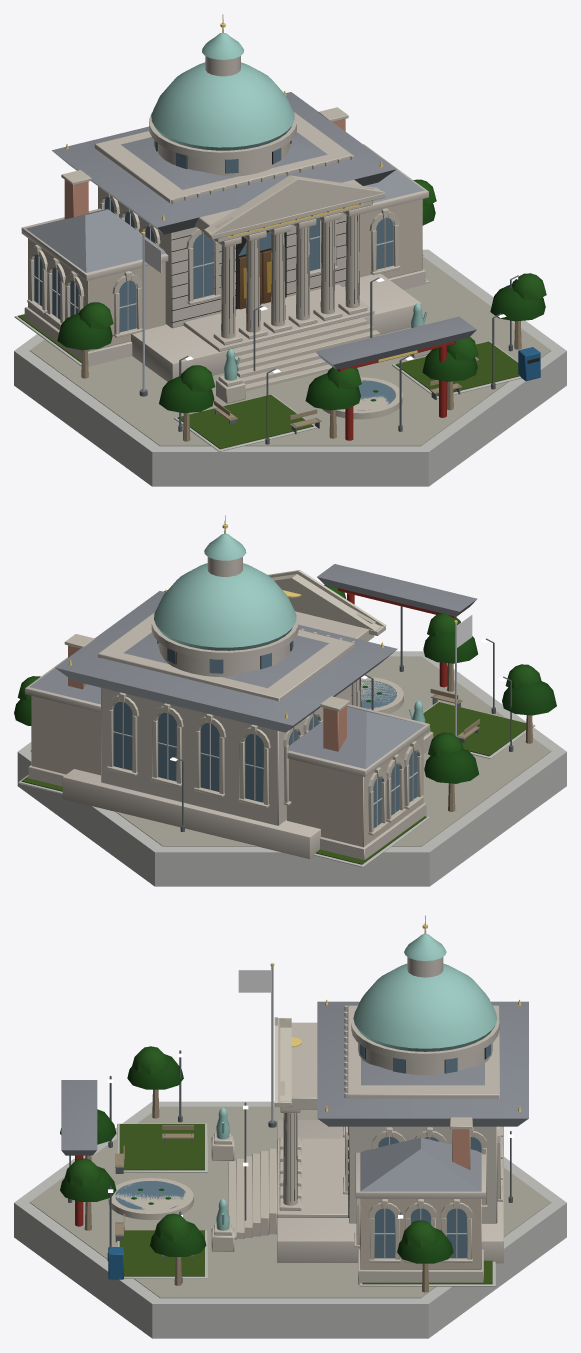
File: library_asia.glb
The picture shows the model from 3 angles, top to bottom: view 1: azimuth 30°, elevation 25°; view 2: azimuth 150°, elevation 25°; view 3: azimuth 270°, elevation 25°; orthographic projection.
Visible parts, largest first — view 1: stone, wall_concrete, roof_slate, pavers, copper, leaf, turf, glass, dark, wood, paint, steel_dark (+2 smaller); view 2: stone, wall_concrete, roof_slate, copper, pavers, glass, leaf, turf, brick, wood, steel_dark, paint; view 3: stone, wall_concrete, roof_slate, pavers, copper, leaf, turf, glass, wood, steel_dark, paint, banner (+2 smaller).
Boxes of the visible parts, left/top/right/bottom form: stone: left=21, top=56, right=431, bottom=419; wall_concrete: left=14, top=198, right=566, bottom=486; roof_slate: left=26, top=92, right=476, bottom=369; pavers: left=29, top=256, right=551, bottom=446; copper: left=151, top=33, right=427, bottom=380; leaf: left=57, top=179, right=546, bottom=413; turf: left=18, top=280, right=519, bottom=449; glass: left=34, top=140, right=395, bottom=410; dark: left=156, top=141, right=539, bottom=363; wood: left=81, top=247, right=521, bottom=441; paint: left=337, top=341, right=540, bottom=440; steel_dark: left=139, top=275, right=518, bottom=444; stone: left=25, top=557, right=433, bottom=859; wall_concrete: left=17, top=651, right=566, bottom=886; roof_slate: left=29, top=564, right=477, bottom=768; copper: left=154, top=533, right=425, bottom=722; pavers: left=115, top=656, right=551, bottom=846; glass: left=113, top=640, right=417, bottom=828; leaf: left=14, top=585, right=556, bottom=783; turf: left=21, top=702, right=526, bottom=864; brick: left=68, top=645, right=346, bottom=751; wood: left=430, top=663, right=532, bottom=811; steel_dark: left=175, top=606, right=513, bottom=831; paint: left=338, top=588, right=455, bottom=687; stone: left=108, top=957, right=503, bottom=1284; wall_concrete: left=14, top=1101, right=566, bottom=1338; roof_slate: left=61, top=1001, right=528, bottom=1191; pavers: left=29, top=1106, right=551, bottom=1298; copper: left=216, top=934, right=497, bottom=1230; leaf: left=60, top=1046, right=453, bottom=1263; turf: left=119, top=1124, right=492, bottom=1284; glass: left=115, top=1044, right=490, bottom=1258; wood: left=84, top=1089, right=428, bottom=1292; steel_dark: left=68, top=1050, right=512, bottom=1282; paint: left=75, top=1155, right=123, bottom=1279; banner: left=238, top=970, right=271, bottom=992.
Bounding box in the file's own units: 21.41 × 15.8 × 24.6.
